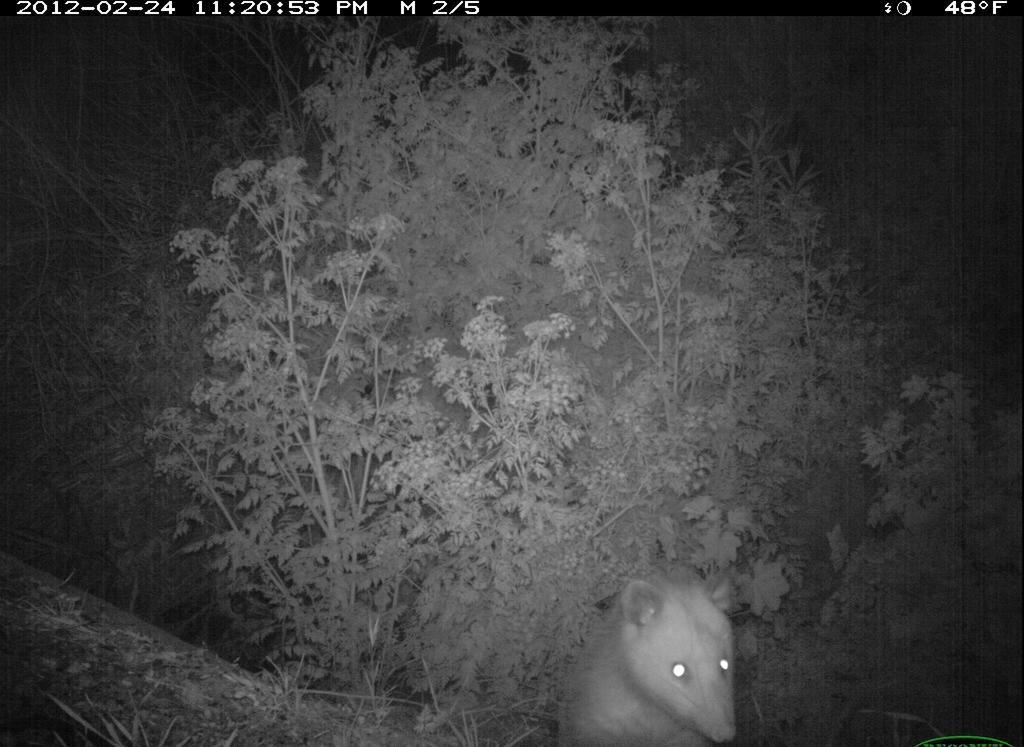opossum: (553, 568, 758, 739)
